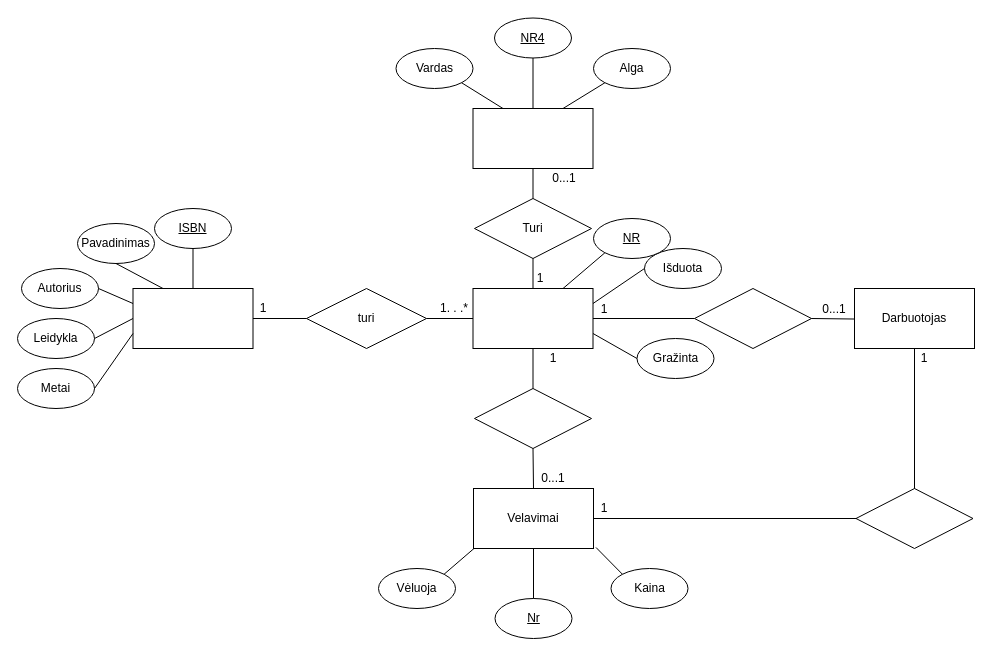
Image size: 992x656. Some labels were removed from this diagram. The shapes that lost their labels are listed below. From the top down, each one's centre as x and y in pixels, then its label:
At pixel 532 138: "Skaitytojas".
At pixel 192 318: "Knyga".
At pixel 532 318: "Egzempliorius".
At pixel 753 318: "Išdavė".
At pixel 533 418: "Gali Būti".
At pixel 914 518: "Užregistravo".
